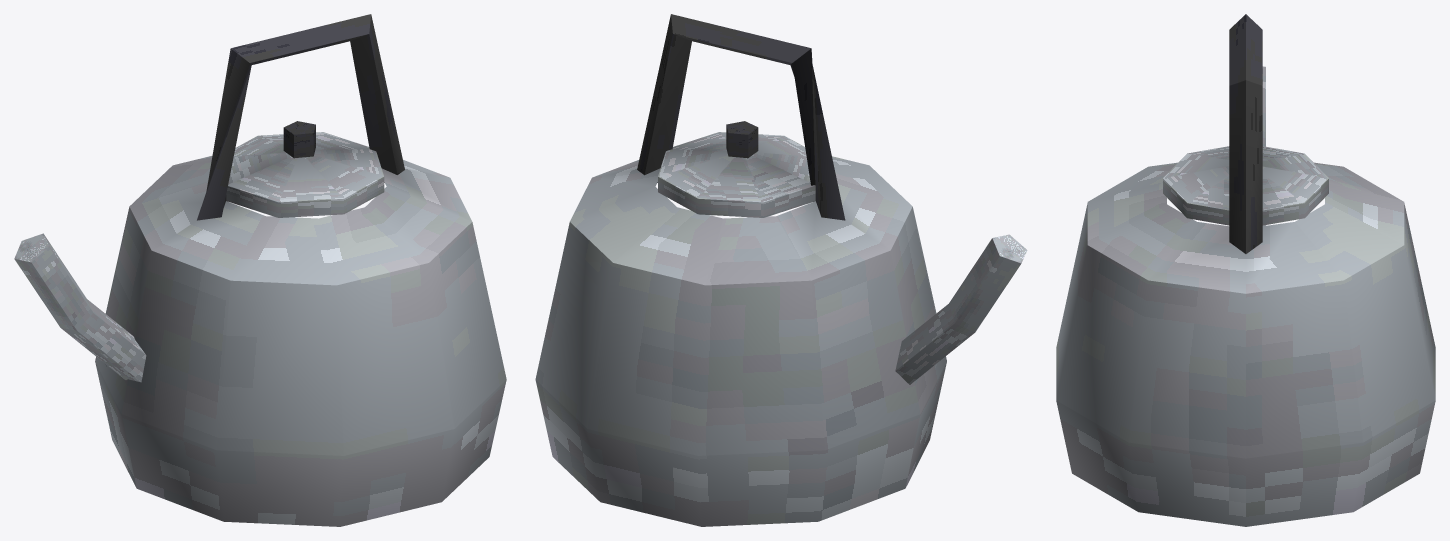
Rendered from kettle_stove.glb.
The picture shows the model from 3 angles, left to right: view 1: azimuth 30°, elevation 25°; view 2: azimuth 150°, elevation 25°; view 3: azimuth 270°, elevation 25°; orthographic projection. The views are drawn at different scales.
Parts seen in each view (by area): view 1: kettle_stove, kettle_stove_lid; view 2: kettle_stove, kettle_stove_lid; view 3: kettle_stove, kettle_stove_lid.
Part boxes in pixels (bbox=[...]): kettle_stove: bbox=[14, 14, 506, 526]; kettle_stove_lid: bbox=[226, 121, 384, 217]; kettle_stove: bbox=[535, 14, 1027, 526]; kettle_stove_lid: bbox=[658, 121, 815, 217]; kettle_stove: bbox=[1056, 14, 1435, 526]; kettle_stove_lid: bbox=[1163, 146, 1328, 225].
Bounding box in the file's own units: 0.3098 × 0.2671 × 0.2283.
1 material, 1 textured.
